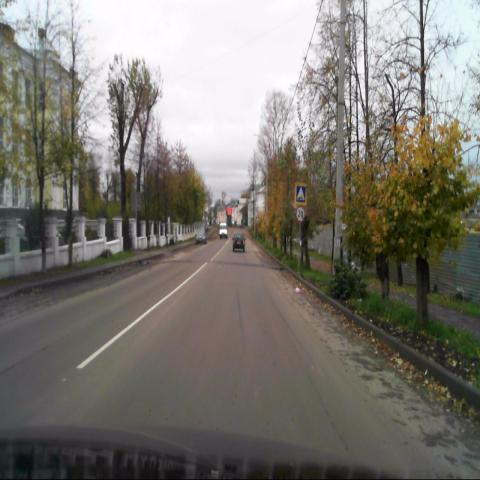3_24: (296, 207, 304, 221)
5_20: (295, 182, 307, 206)
